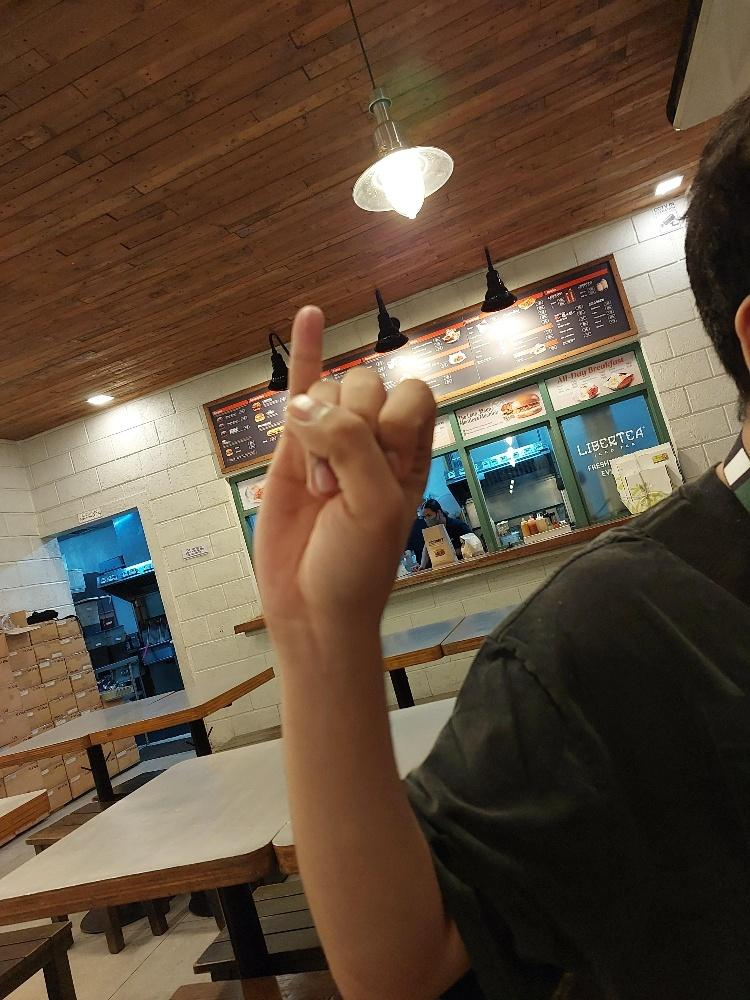i: (251, 303, 438, 636)
